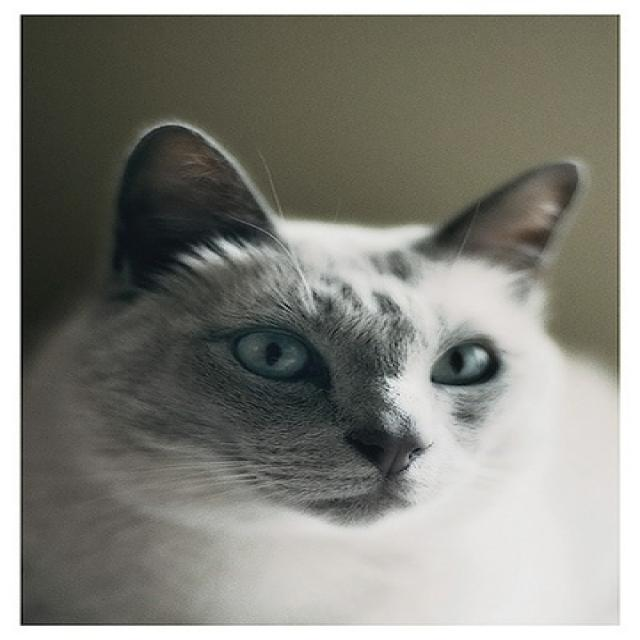cat: (22, 114, 620, 627)
